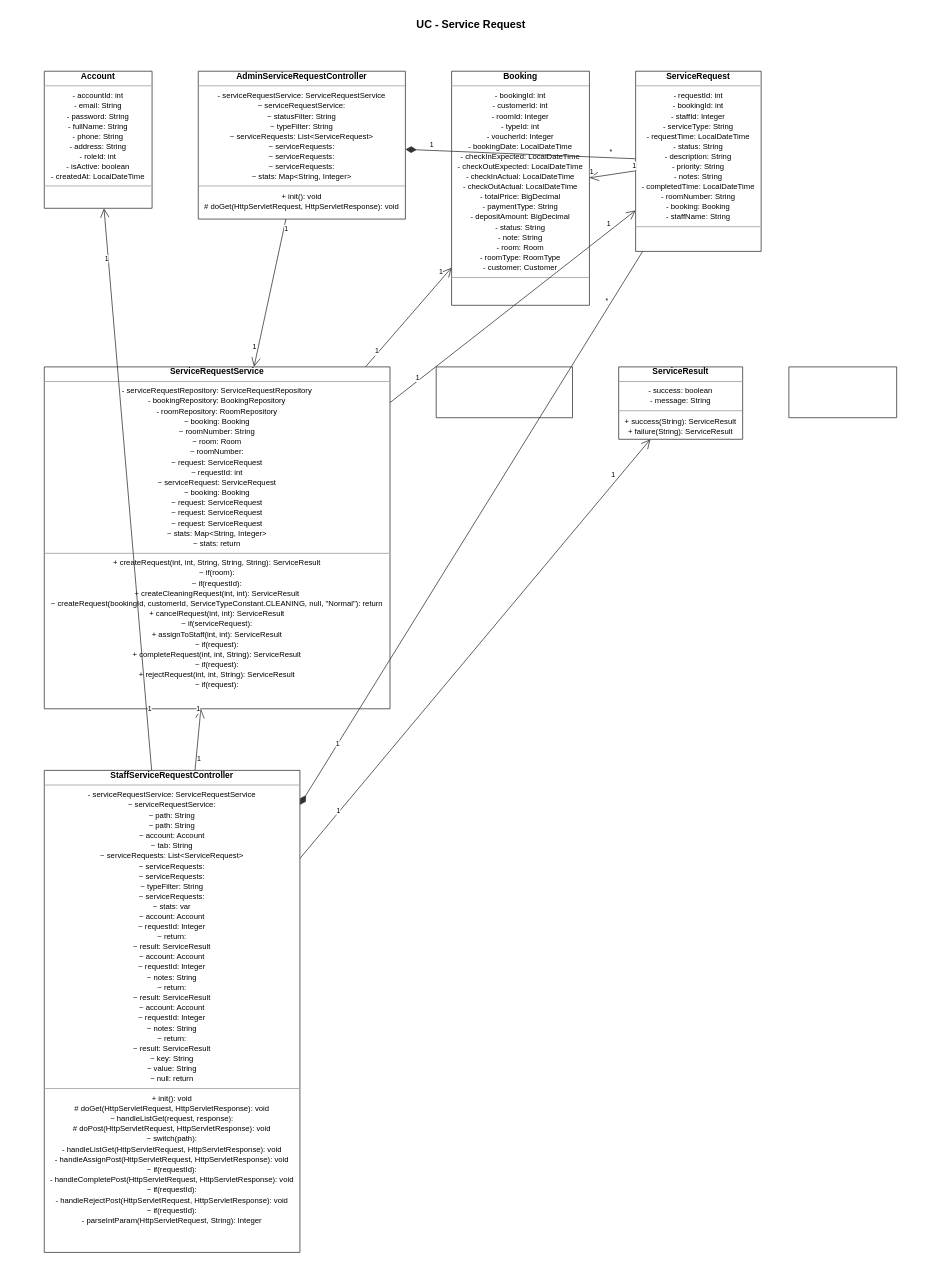
The diagram is 940 pixels wide and 1266 high, and some of its shapes have lost their labels. The box of each missing label's shape, as (x1, y1, x2, y2) in pixels:
ServiceRequestStatusConstant: (435, 366, 572, 418)
ServiceTypeConstant ~ switch(type): return: (788, 366, 897, 418)
